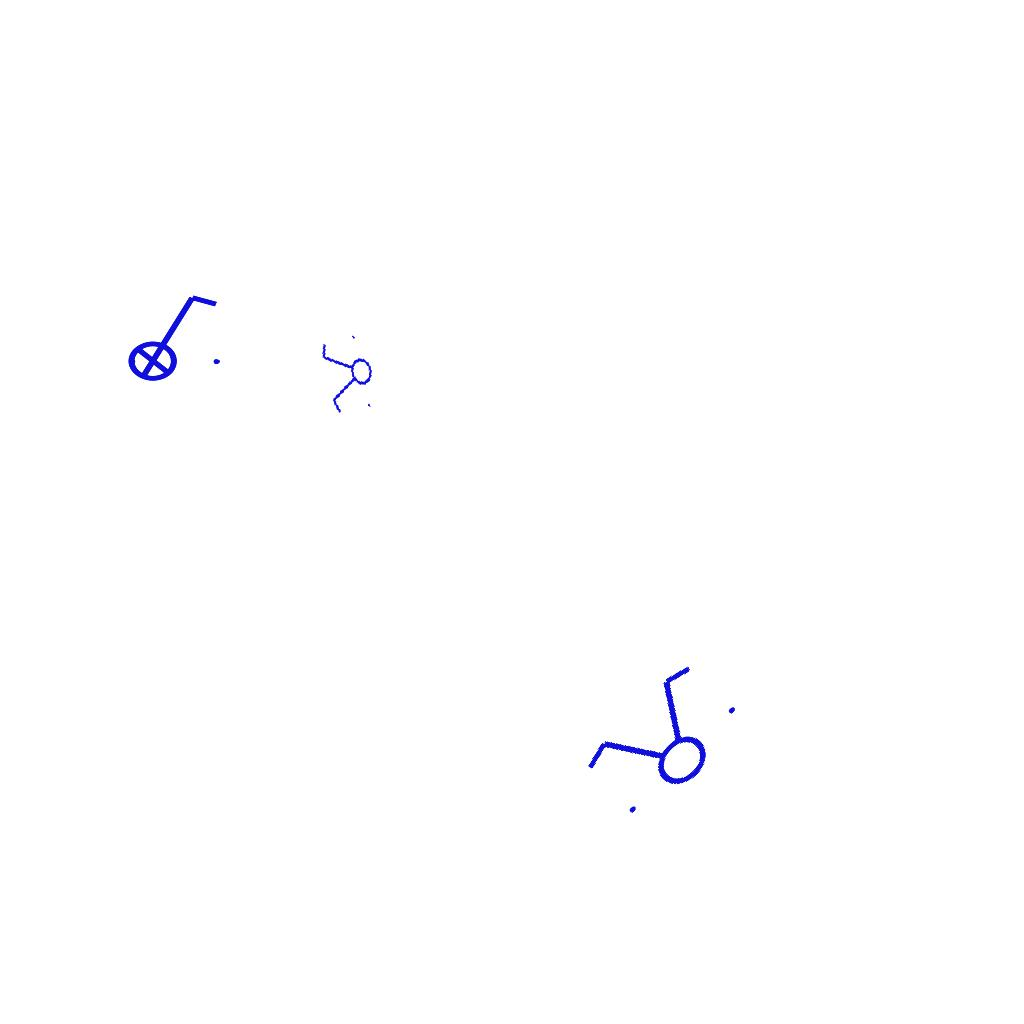Ausschalter_beleuchtet: (114, 287, 226, 383)
Serienschalter: (569, 649, 757, 837), (316, 328, 382, 422)
